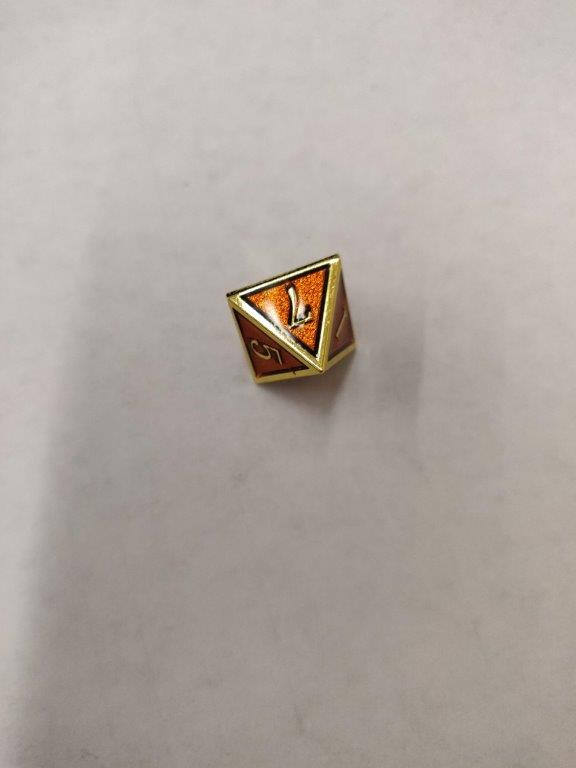d8-7: (224, 252, 358, 387)
